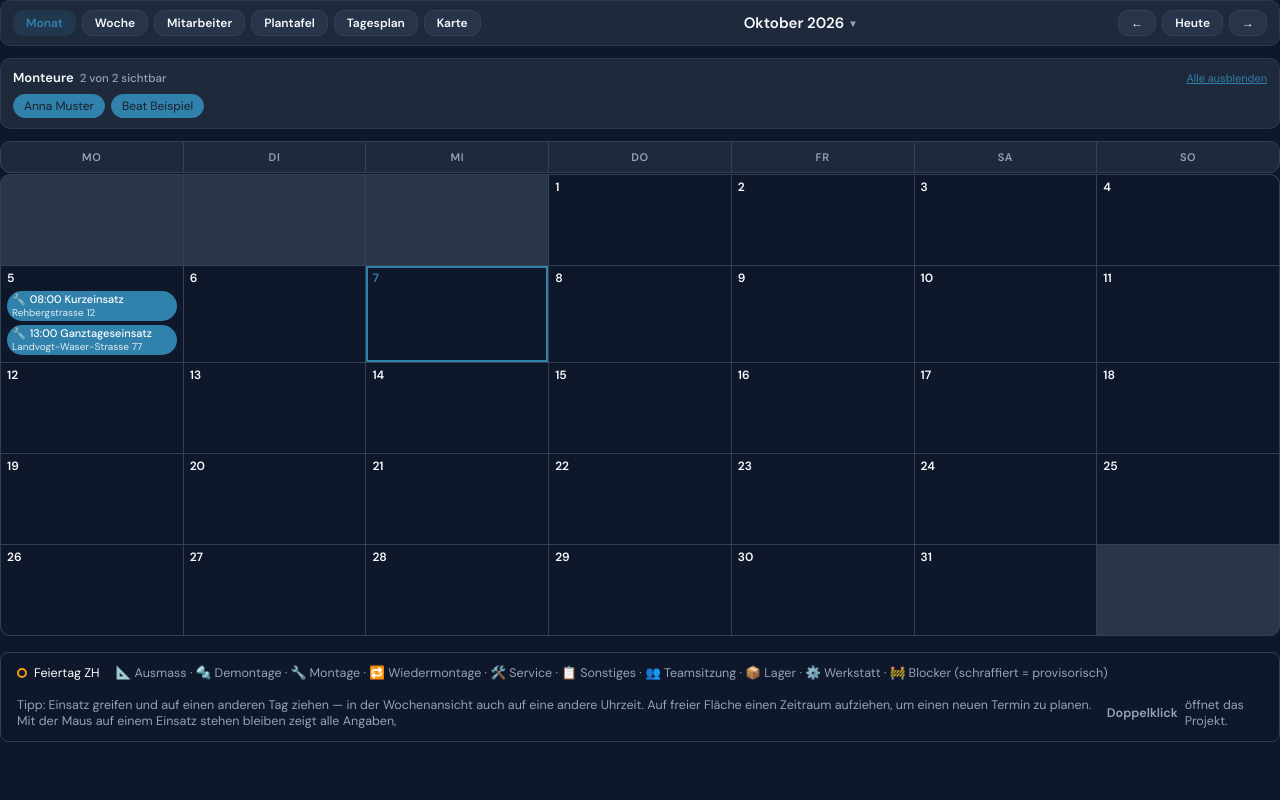
Test: Wochen-Zeitraster › lässt Zusatzfelder weg, statt sie halb abzuschneiden
Click the button "Woche" at (115, 23), box [82, 10, 148, 36]
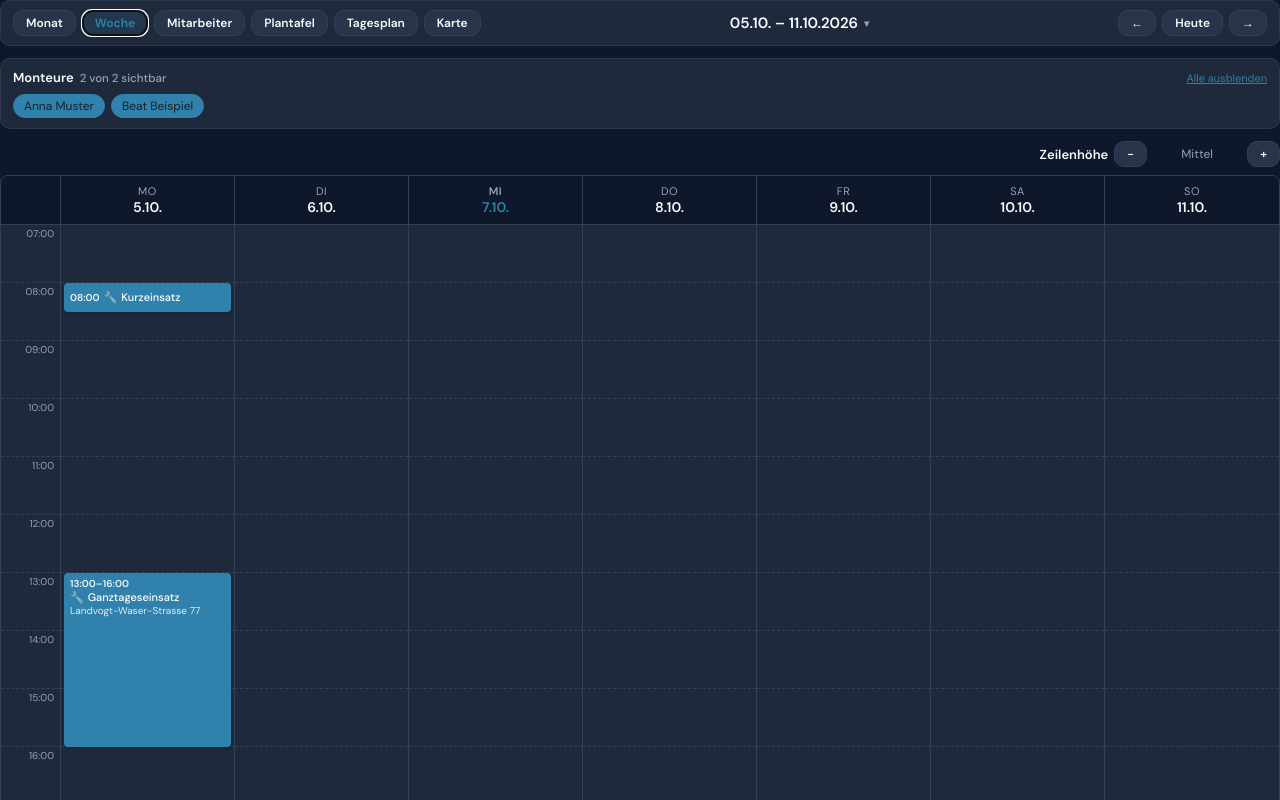
Expected: the element showing "08:00 🔧Kurzeinsatz" is shown, [64, 283, 231, 312]
Expected: the element showing "08:00 🔧Kurzeinsatz" no longer shows "Rehbergstrasse", [64, 283, 231, 312]
Expected: the text "Rehbergstrasse 12" is gone
